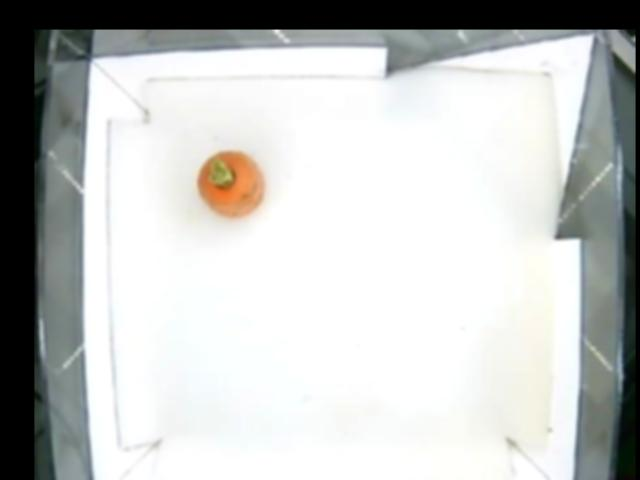Carrot: (197, 149, 265, 217)
